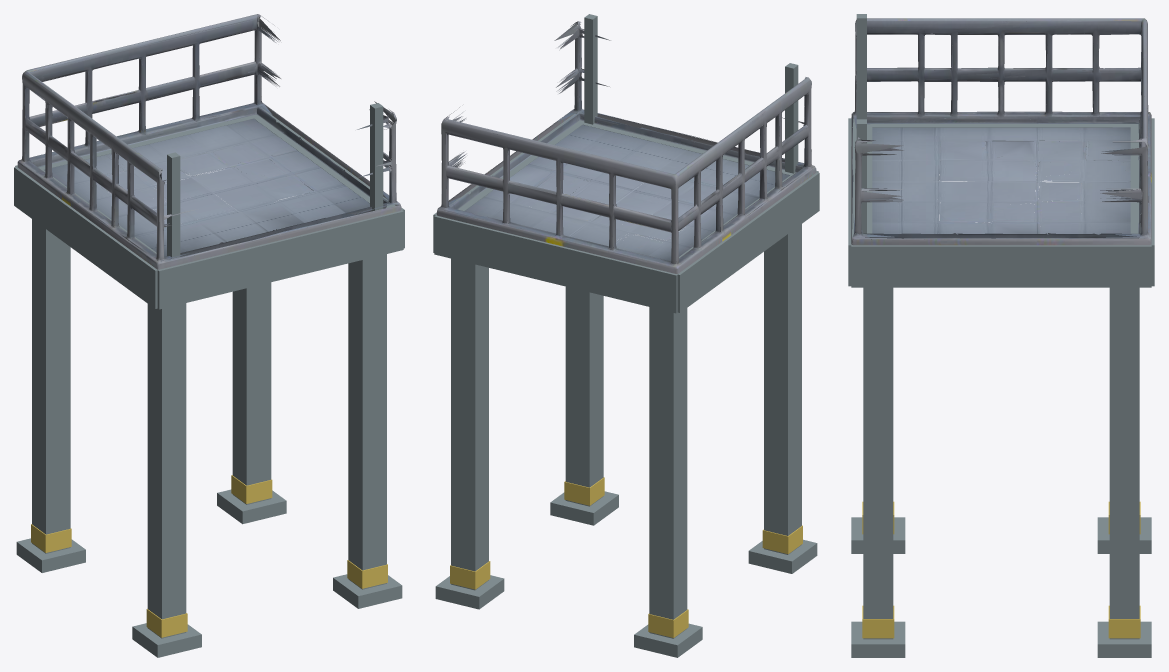
File: platform_access.glb
3 views of the same model, side by side, from view 1: azimuth 30°, elevation 25°; view 2: azimuth 150°, elevation 25°; view 3: azimuth 270°, elevation 25° (orthographic). The views are drawn at different scales.
Parts seen in each view (by area): view 1: Industrial_platform_access; view 2: Industrial_platform_access; view 3: Industrial_platform_access.
Boxes of the visible parts, x1,y1,x2,y2 form: Industrial_platform_access: (14, 14, 404, 657); Industrial_platform_access: (433, 14, 819, 657); Industrial_platform_access: (848, 14, 1154, 657).
Bounding box in the file's own units: 2.04 × 3.86 × 2.04.
Materials: 3 (1 with a texture image).
